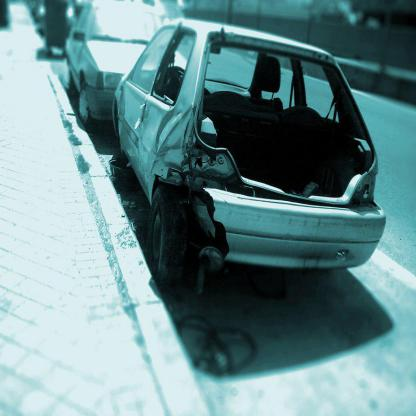Car: (108, 19, 388, 270), (61, 0, 173, 132)
